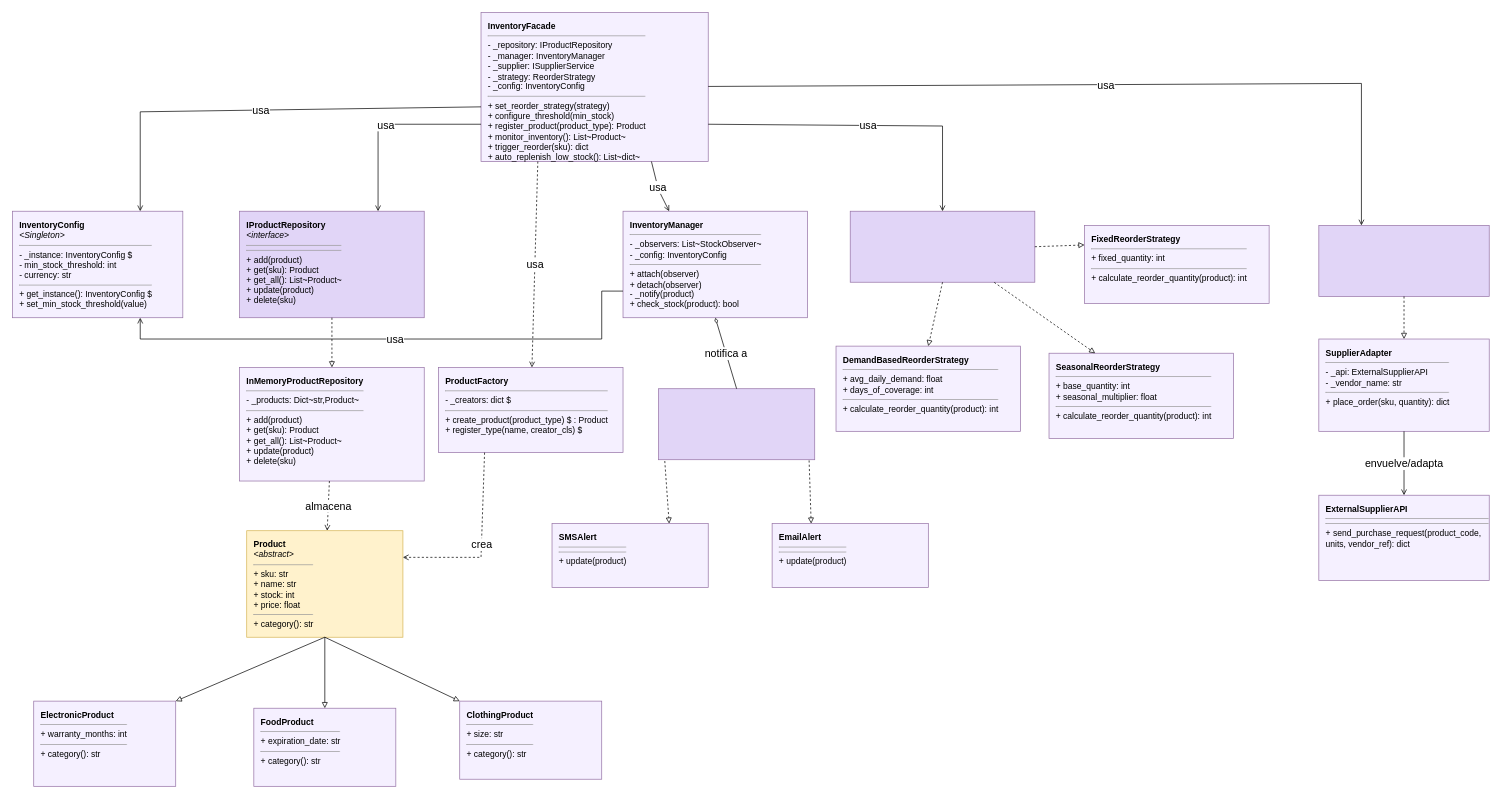
The diagram is 1502 pixels wide and 799 high, and some of its shapes have lost their labels. The shapes that lost their labels are listed below. From the top down, each one's centre as x and y in pixels, then its label:
[942,246]: ReorderStrategy < interface > + calculate_reorder_quantity(product): int
[1403,260]: ISupplierService < interface > + place_order(sku, quantity): dict
[736,424]: StockObserver <interface> + update(product)
